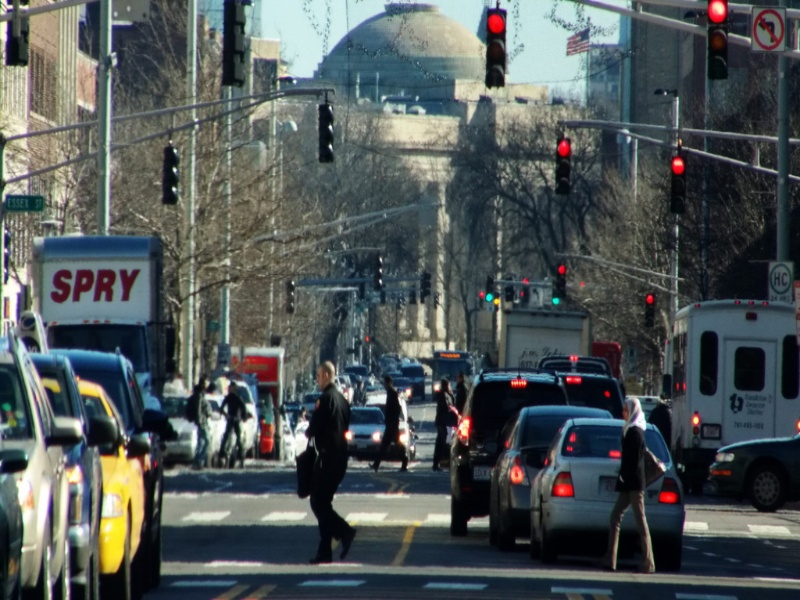red_light: (540, 117, 577, 164), (700, 1, 733, 28), (666, 154, 696, 182), (484, 11, 510, 38)
